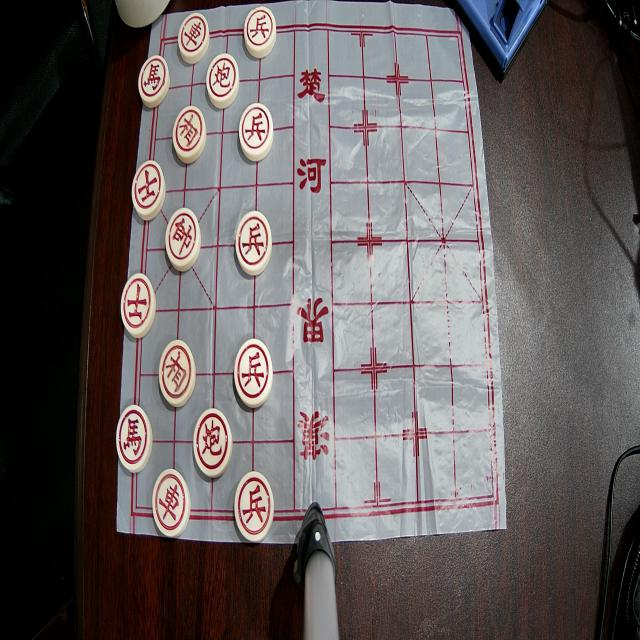red-cannon: (194, 408, 232, 478), (207, 53, 240, 109)
red-chariot: (152, 469, 191, 537), (178, 13, 210, 64)
red-elephant: (159, 340, 196, 407), (172, 105, 206, 163)
red-general: (165, 208, 201, 272)
red-guard: (121, 273, 156, 338), (132, 160, 166, 220)
red-horse: (116, 404, 153, 474), (138, 55, 170, 108)
red-soldier: (234, 471, 274, 542), (234, 339, 274, 408), (236, 210, 272, 276), (239, 103, 273, 161), (244, 6, 276, 58)
